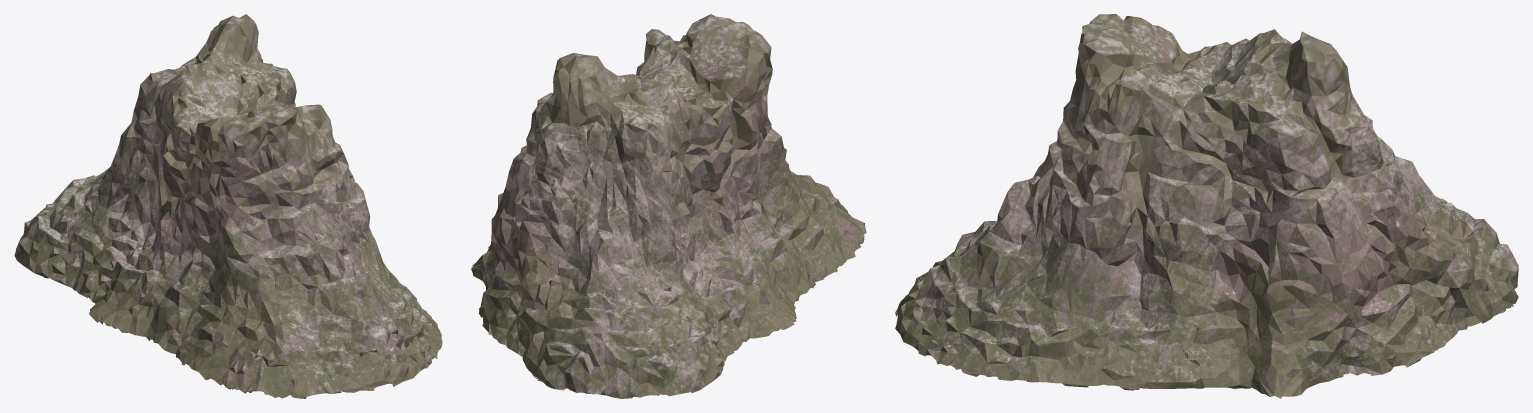
The model's file is mountain0.obj.
3 views of the same model, side by side, from view 1: azimuth 30°, elevation 25°; view 2: azimuth 150°, elevation 25°; view 3: azimuth 270°, elevation 25° (orthographic). The views are drawn at different scales.
Visible parts, largest first — view 1: ZBrush_defualt_group_meshId0_name; view 2: ZBrush_defualt_group_meshId0_name; view 3: ZBrush_defualt_group_meshId0_name.
Boxes of the visible parts, bbox=[...] form: ZBrush_defualt_group_meshId0_name: bbox=[14, 14, 442, 398]; ZBrush_defualt_group_meshId0_name: bbox=[471, 14, 866, 398]; ZBrush_defualt_group_meshId0_name: bbox=[895, 14, 1518, 398].
Size of the model in its own units: 28.53 by 23.06 by 43.88.
Materials: 1 (1 with a texture image).
